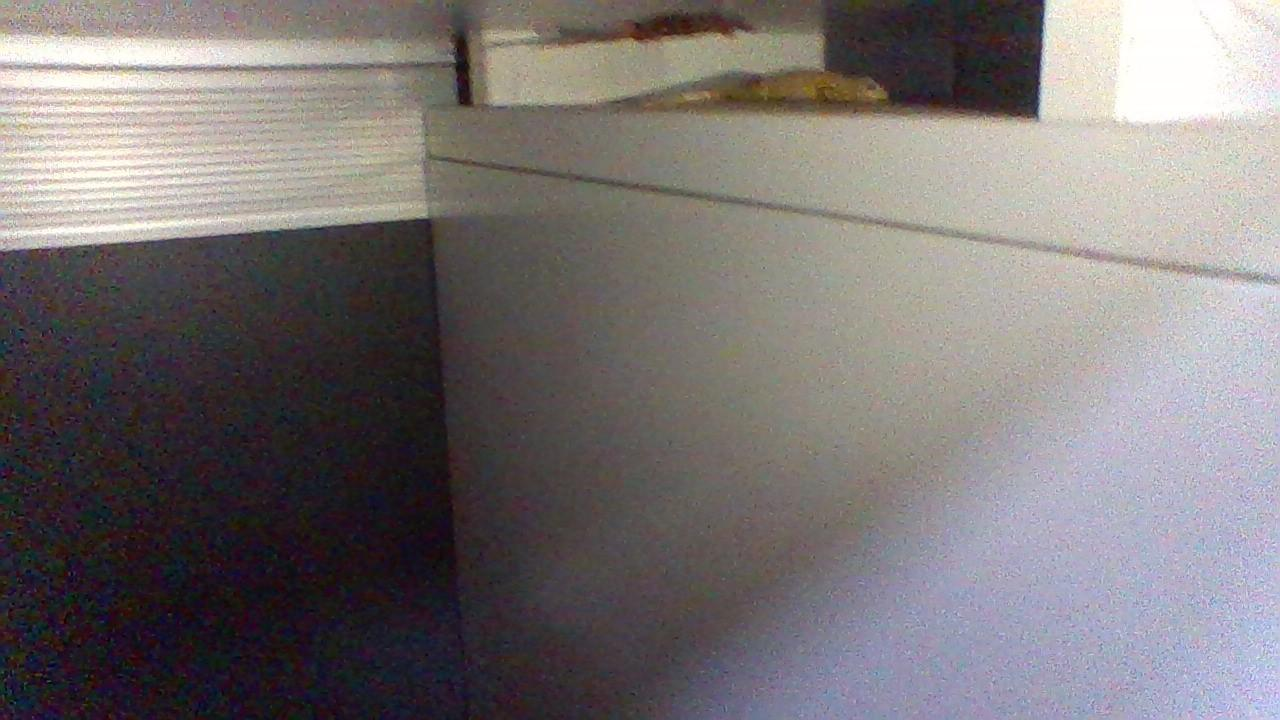cockroach: (597, 3, 754, 53)
lizard: (642, 69, 886, 120)
